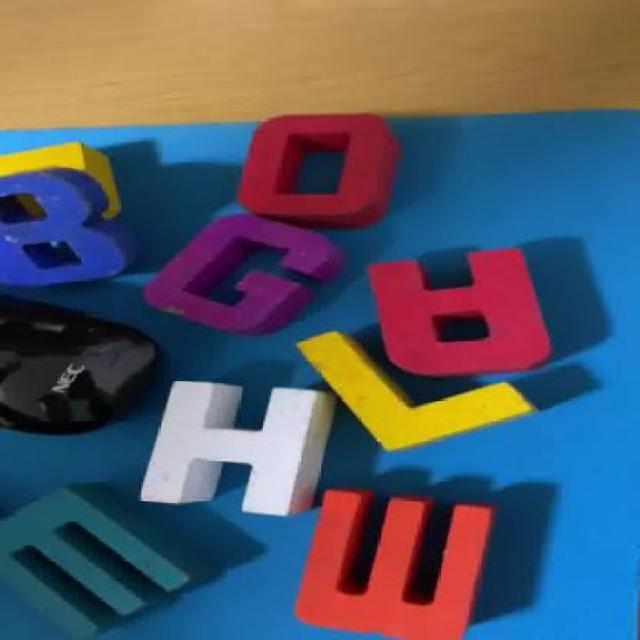B: (0, 168, 118, 300)
G: (137, 216, 351, 338)
H: (140, 378, 335, 519)
L: (300, 336, 538, 449)
M: (3, 476, 237, 636)
O: (228, 114, 414, 221)
W: (287, 486, 498, 639)
